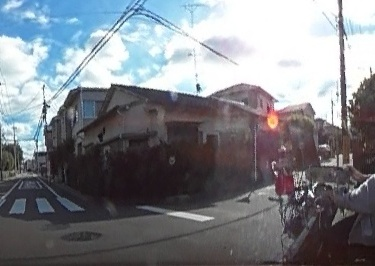person: (313, 66, 375, 245)
